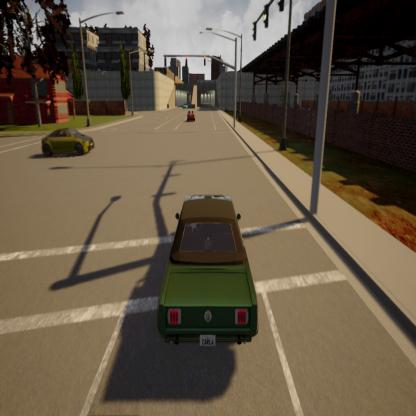Cars: (147, 167, 264, 364), (38, 125, 99, 166), (185, 108, 196, 124), (182, 101, 187, 109)
